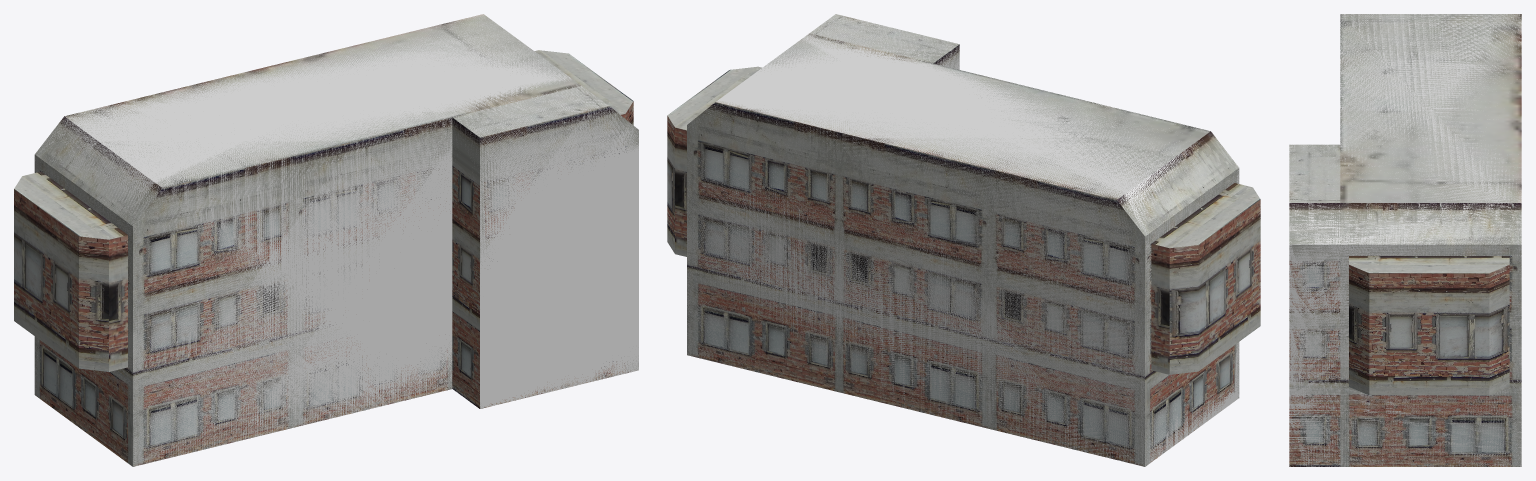
Rendered from building5.fbx.
3 views of the same model, side by side, from view 1: azimuth 30°, elevation 25°; view 2: azimuth 150°, elevation 25°; view 3: azimuth 270°, elevation 25° (orthographic). The views are drawn at different scales.
Parts seen in each view (by area): view 1: Cube.009, Cube.003; view 2: Cube.003, Cube.009; view 3: Cube.003, Cube.009.
Part boxes in pixels (<box>): Cube.009: <box>34,15,638,466</box>; Cube.003: <box>14,14,638,466</box>; Cube.003: <box>667,14,1260,466</box>; Cube.009: <box>687,14,1239,466</box>; Cube.003: <box>1289,14,1521,466</box>; Cube.009: <box>1289,14,1521,466</box>.
Bounding box in the file's own units: 4902 × 2293 × 1925.
Materials: 1 (1 with a texture image).
